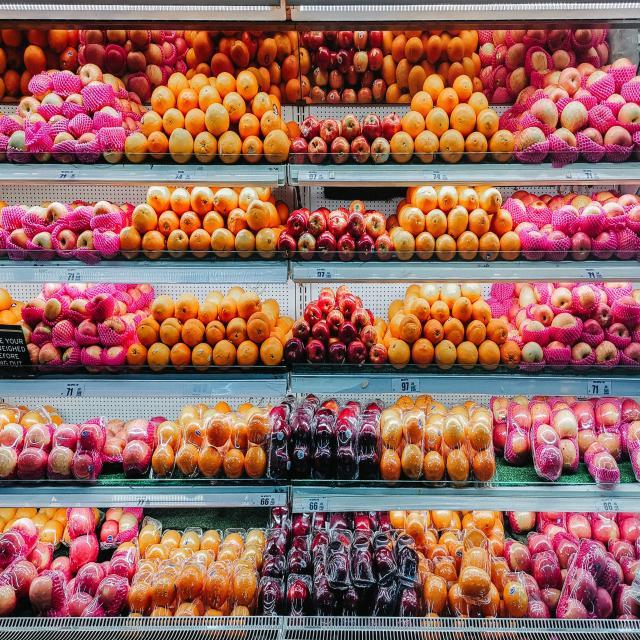Imprecise: (492, 403, 593, 486)
